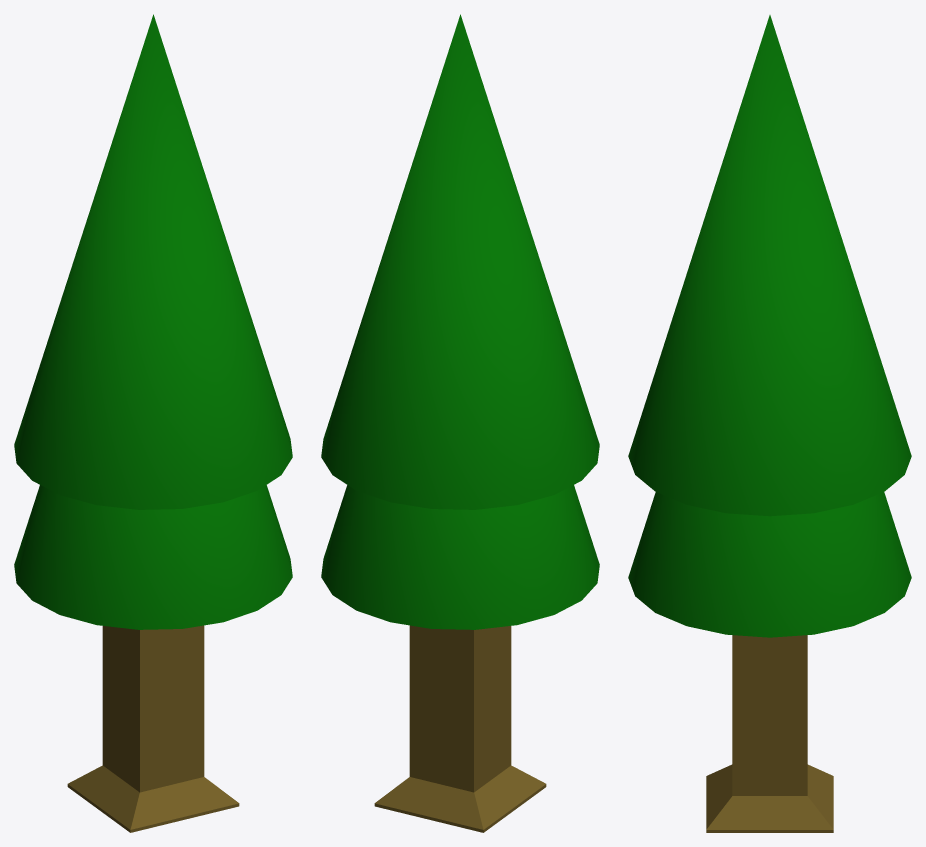
File: LittleTree.fbx
3 views of the same model, side by side, from view 1: azimuth 30°, elevation 25°; view 2: azimuth 150°, elevation 25°; view 3: azimuth 270°, elevation 25° (orthographic).
Visible parts, largest first — view 1: pCone3; view 2: pCone3; view 3: pCone3.
Boxes of the visible parts, box(x1,y1,x2,y2) form: pCone3: box(14, 14, 292, 832); pCone3: box(321, 14, 599, 832); pCone3: box(628, 15, 911, 832).
Bounding box in the file's own units: 4.24 × 13.07 × 4.24.
